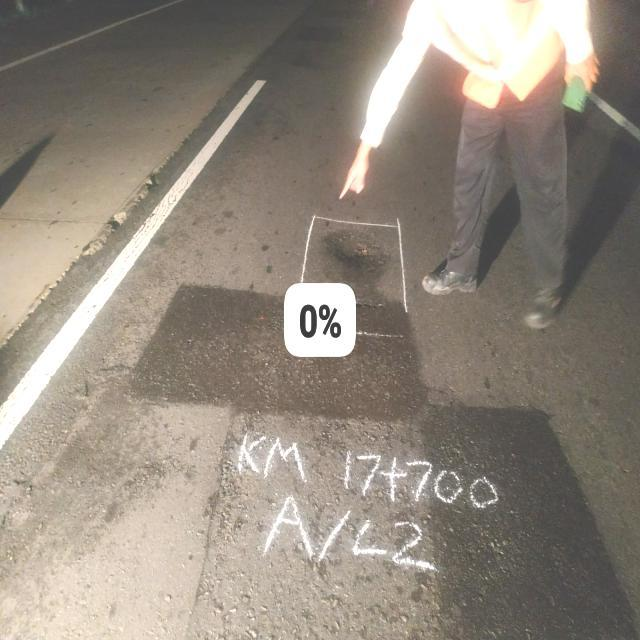Buraco: (77, 164, 166, 260), (320, 227, 394, 275)
